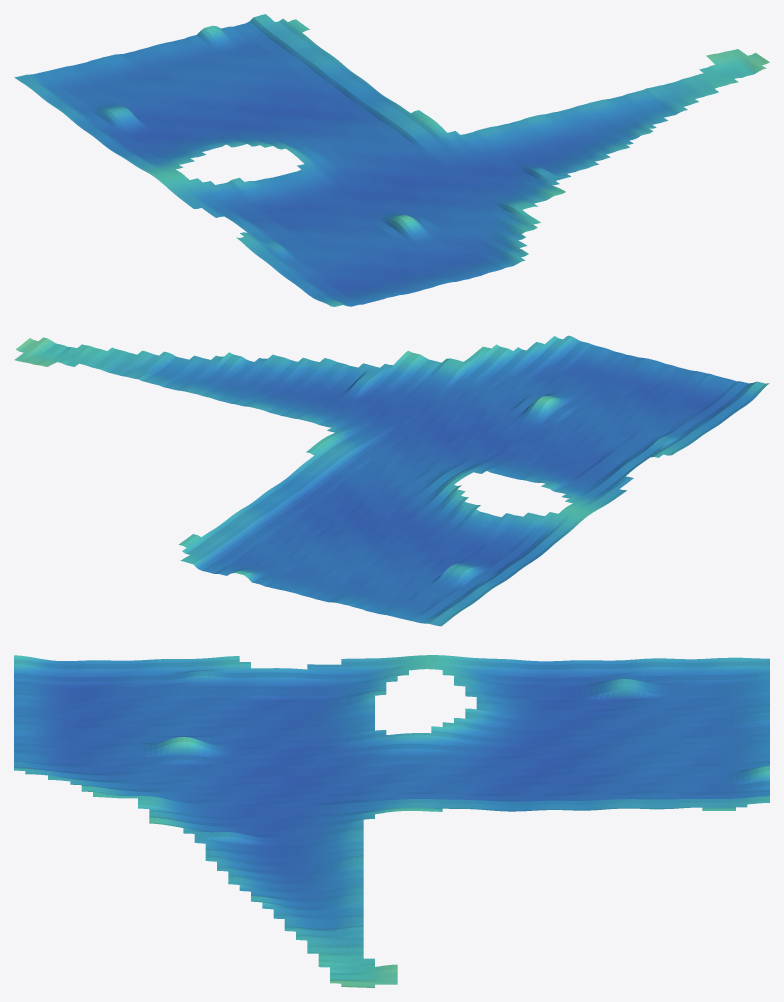
File: bathymetry.glb
The picture shows the model from 3 angles, top to bottom: view 1: azimuth 30°, elevation 25°; view 2: azimuth 150°, elevation 25°; view 3: azimuth 270°, elevation 25°; orthographic projection. The views are drawn at different scales.
Size of the model in its own units: 3905 by 85 by 3718.
